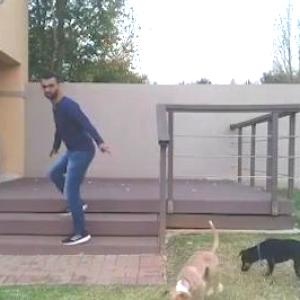land: (35, 69, 113, 242)
